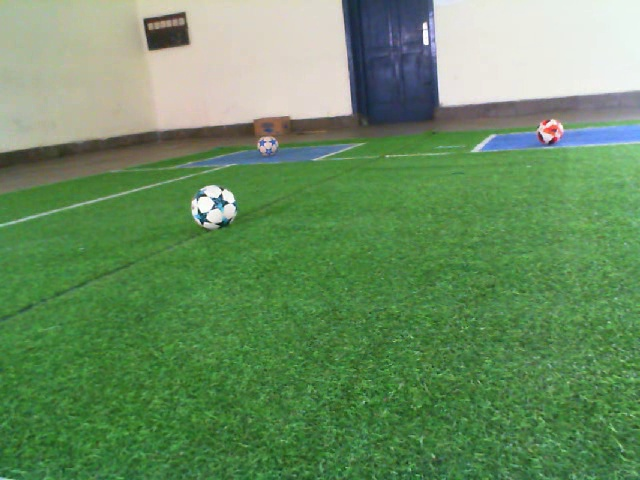ball: (189, 183, 239, 232), (533, 116, 566, 149), (255, 134, 281, 159)
